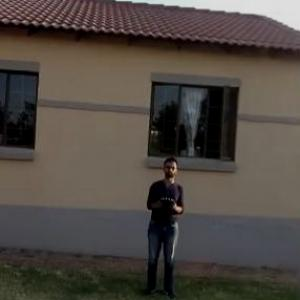follow: (140, 144, 189, 299)
